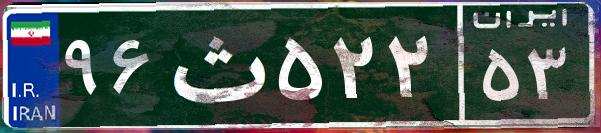2: (385, 28, 445, 110), (330, 28, 385, 110)
3: (525, 38, 570, 115)
5: (273, 28, 330, 110), (475, 38, 525, 113)
6: (110, 28, 158, 105)
9: (57, 26, 110, 107)
ث: (158, 15, 273, 115)
